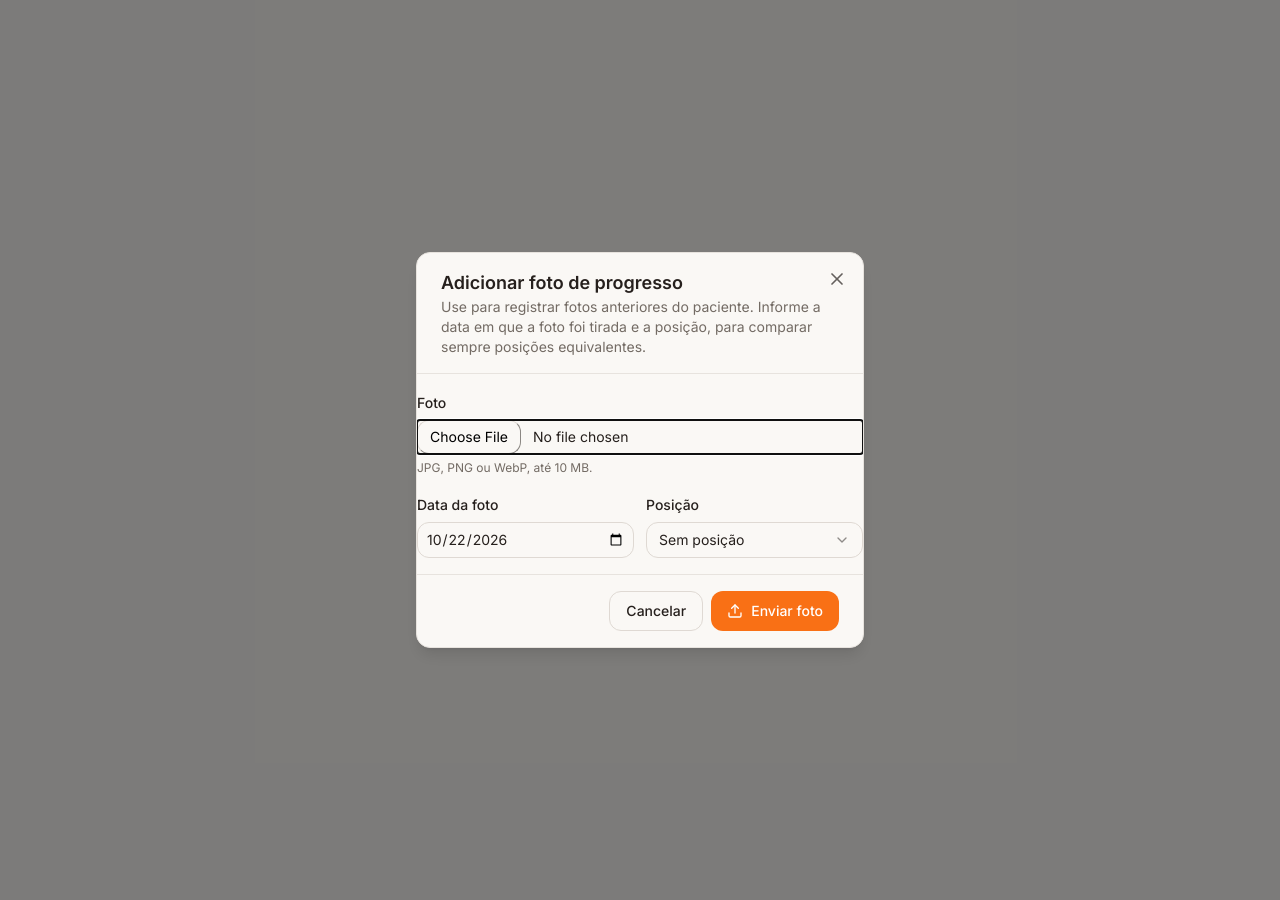
Test: PhotoUploadDialog — envio de foto antiga pelo profissional › sem arquivo: avisa e não envia
The image size is (1280, 900).
Click the button "Enviar foto": (775,611) top-left (711, 591), bottom-right (839, 631)
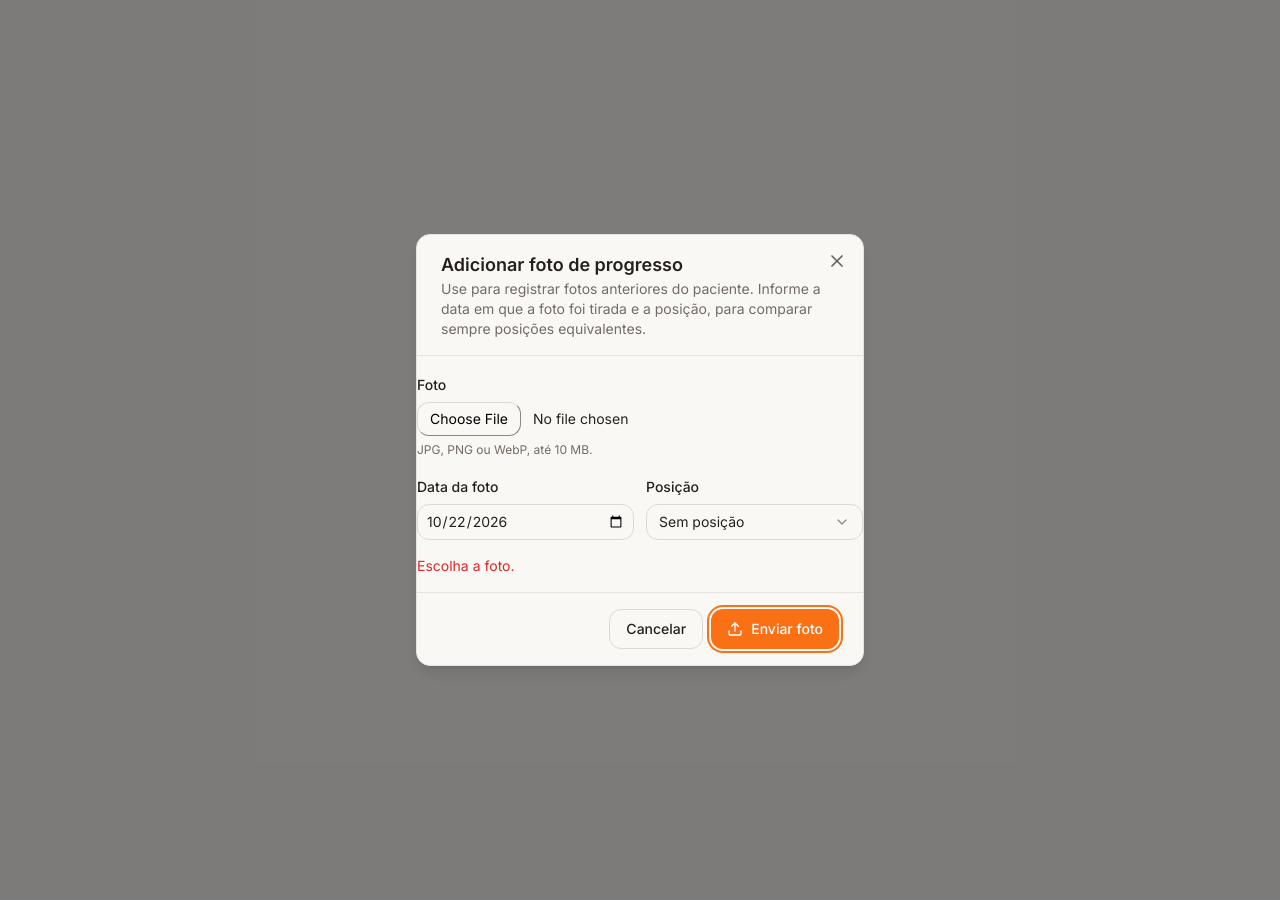
Expected: the message shows "Escolha a foto", top-left (417, 557), bottom-right (514, 574)
